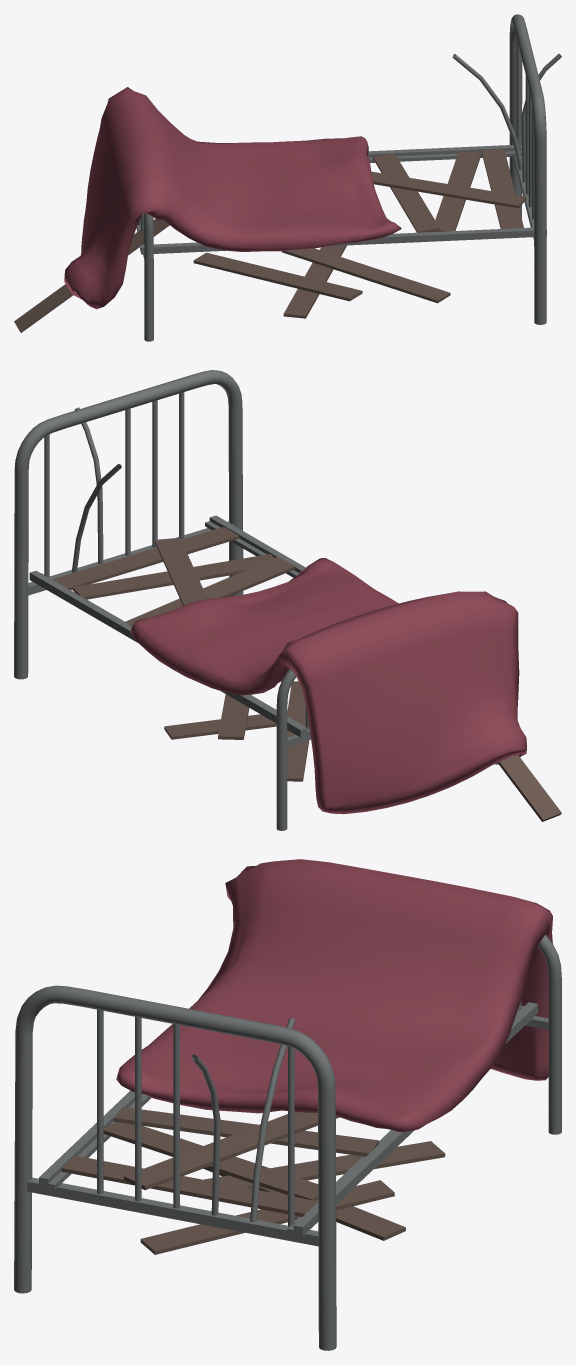
The model's file is Bed.fbx.
3 views of the same model, one above another, from view 1: azimuth 30°, elevation 25°; view 2: azimuth 150°, elevation 25°; view 3: azimuth 270°, elevation 25° (orthographic). The views are drawn at different scales.
Visible parts, largest first — view 1: Bed; view 2: Bed; view 3: Bed.
Boxes of the visible parts, x1,y1,x2,y2 form: Bed: (14, 14, 561, 341); Bed: (14, 370, 561, 830); Bed: (14, 859, 561, 1350).
Bounding box in the file's own units: 289 × 123 × 197.
